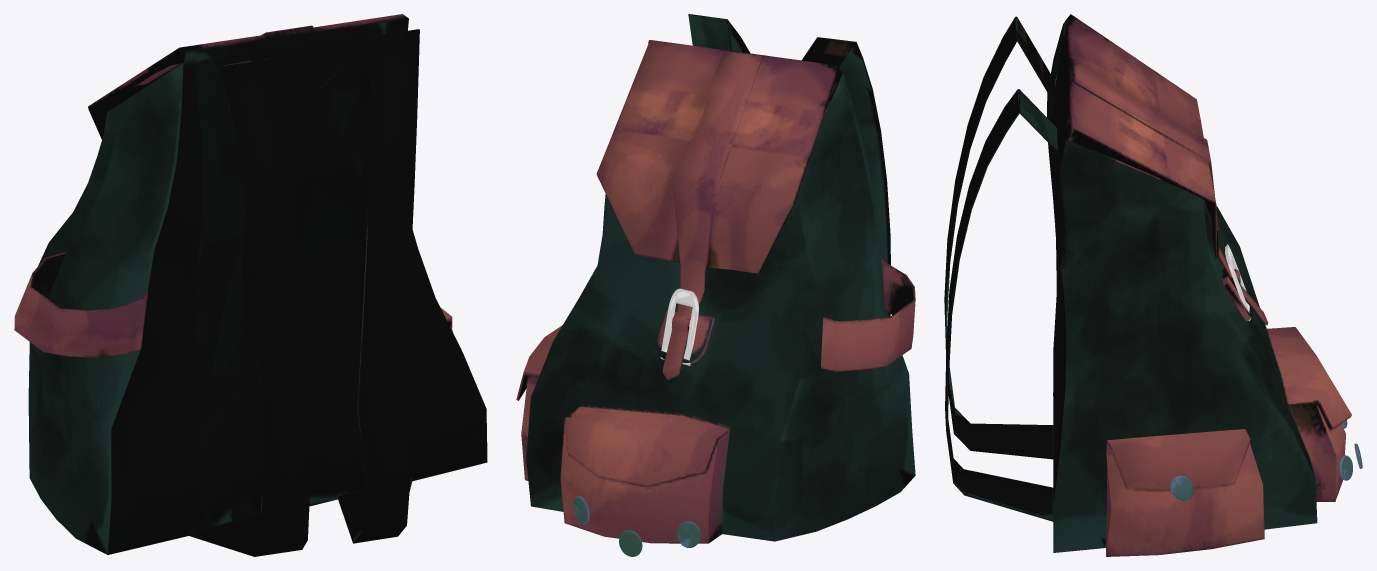
Rendered from sac.gltf.
3 renders of one model, left to right at view 1: azimuth 30°, elevation 25°; view 2: azimuth 150°, elevation 25°; view 3: azimuth 270°, elevation 25°, orthographic. The views are drawn at different scales.
Visible parts, largest first — view 1: Sac; view 2: Sac, Circle.007, Cube.001; view 3: Sac, Circle.007.
Boxes of the visible parts, box(x1,y1,x2,y2) form: Sac: box(14, 14, 487, 556); Sac: box(516, 14, 915, 543); Circle.007: box(573, 496, 700, 556); Cube.001: box(660, 288, 698, 365); Sac: box(944, 14, 1351, 556); Circle.007: box(1170, 420, 1362, 500).
Bounding box in the file's own units: 2.85 × 3.15 × 2.83.
4 materials, 4 textured.
